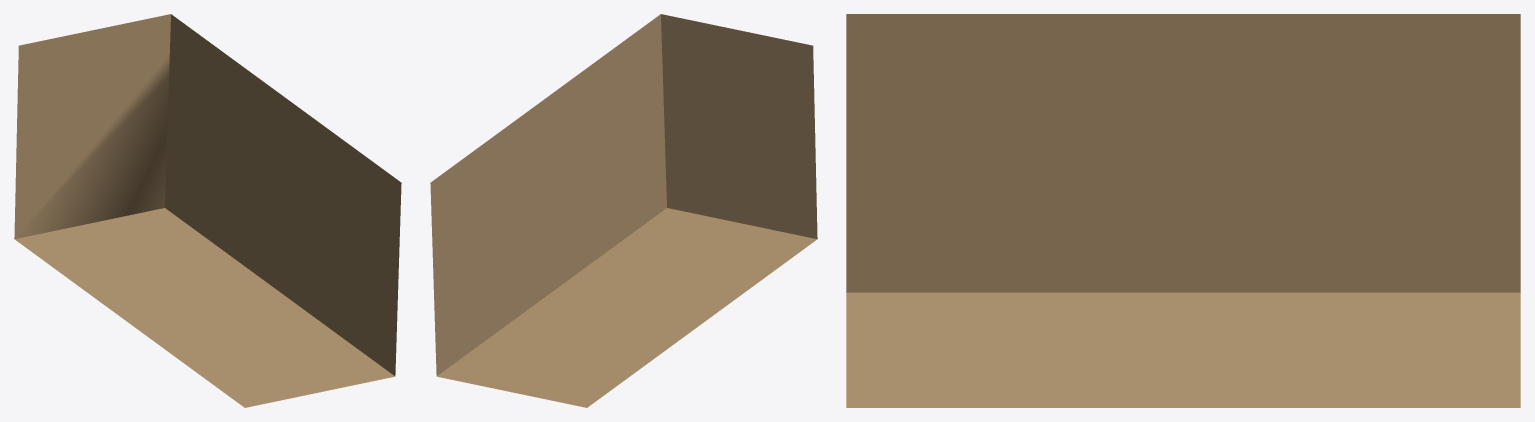
3 renders of one model, left to right at view 1: azimuth 30°, elevation 25°; view 2: azimuth 150°, elevation 25°; view 3: azimuth 270°, elevation 25°, orthographic. The views are drawn at different scales.
Visible parts, largest first — view 1: 0_2_1_3_0_0_2_3_0_0_3; view 2: 0_2_1_3_0_0_2_3_0_0_3; view 3: 0_2_1_3_0_0_2_3_0_0_3.
Boxes of the visible parts, x1,y1,x2,y2 form: 0_2_1_3_0_0_2_3_0_0_3: [14, 14, 401, 407]; 0_2_1_3_0_0_2_3_0_0_3: [430, 14, 817, 407]; 0_2_1_3_0_0_2_3_0_0_3: [846, 14, 1520, 407].
Size of the model in its own units: 8.24 by 9.95 by 21.
